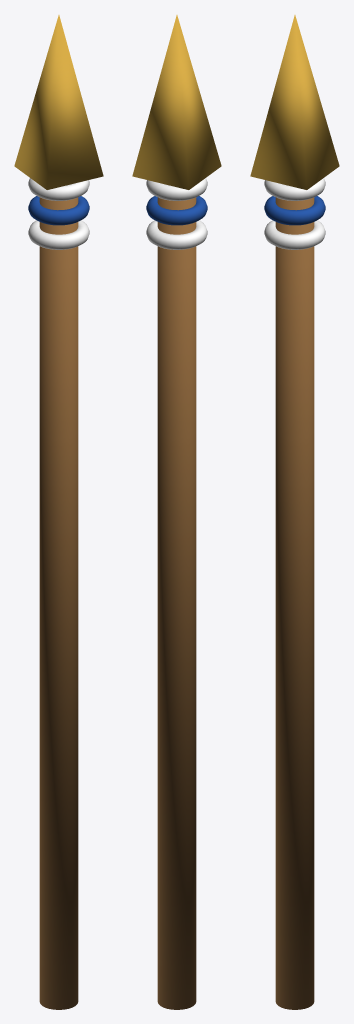
File: lanza_desierto.glb
3 renders of one model, left to right at view 1: azimuth 30°, elevation 25°; view 2: azimuth 150°, elevation 25°; view 3: azimuth 330°, elevation 25°, orthographic.
Visible parts, largest first — view 1: lanza_desierto_fijo; view 2: lanza_desierto_fijo; view 3: lanza_desierto_fijo.
Part boxes in pixels (<box>): lanza_desierto_fijo: <box>14,15,103,1009</box>; lanza_desierto_fijo: <box>132,15,221,1009</box>; lanza_desierto_fijo: <box>250,15,339,1009</box>.
Size of the model in its own units: 0.1697 by 2.83 by 0.1697.
2 materials, 2 textured.
